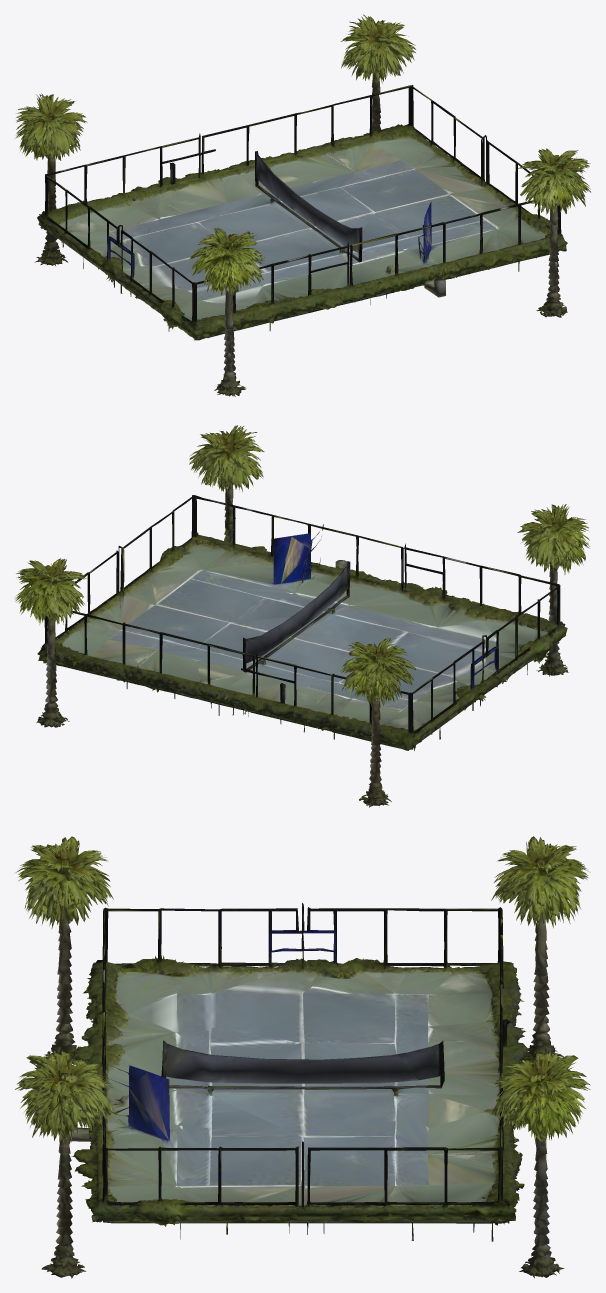
File: tennis-court.glb
3 views of the same model, one above another, from view 1: azimuth 30°, elevation 25°; view 2: azimuth 150°, elevation 25°; view 3: azimuth 270°, elevation 25° (orthographic). The views are drawn at different scales.
Parts seen in each view (by area): view 1: Mesh_0; view 2: Mesh_0; view 3: Mesh_0.
Part boxes in pixels (x1,y1,x2,y2): Mesh_0: [15, 14, 590, 396]; Mesh_0: [14, 425, 589, 807]; Mesh_0: [14, 836, 590, 1278].
Size of the model in its own units: 1.88 by 0.7335 by 1.8.
Materials: 1 (1 with a texture image).
